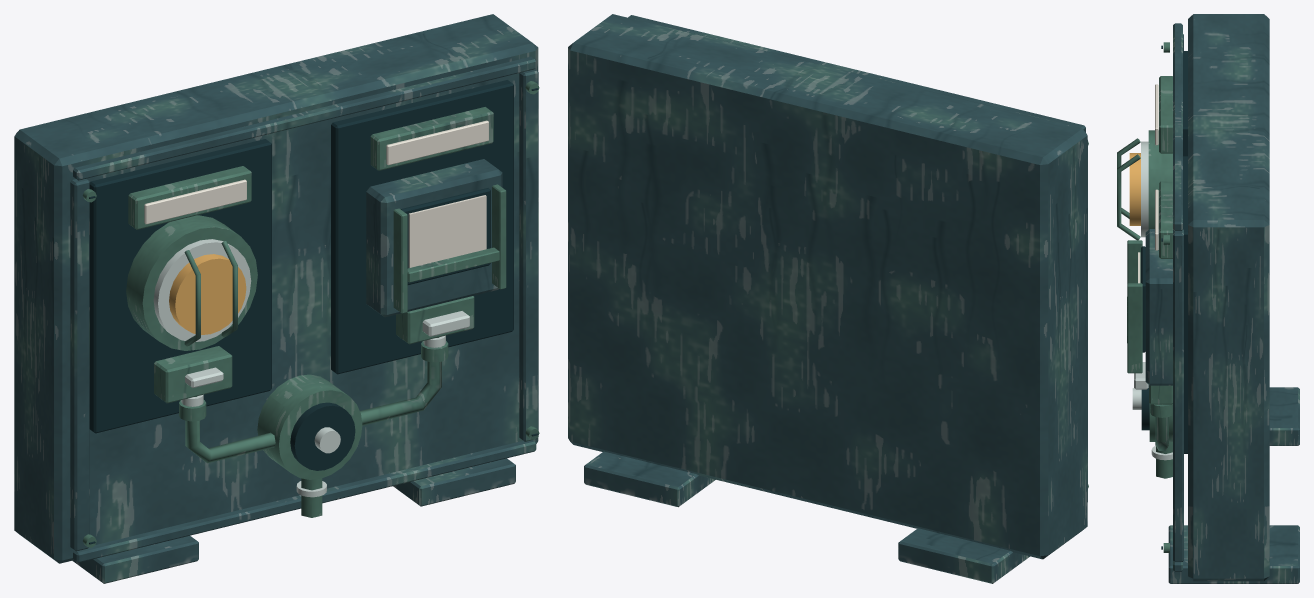
Rendered from SM_C1_Gate_System_Panel.glb.
3 views of the same model, side by side, from view 1: azimuth 30°, elevation 25°; view 2: azimuth 150°, elevation 25°; view 3: azimuth 270°, elevation 25° (orthographic). The views are drawn at different scales.
Visible parts, largest first — view 1: SM_C1_Gate_System_Panel_Casting, SM_C1_Gate_System_Panel_Recess, SM_C1_Gate_System_Panel_Patina, SM_C1_Gate_System_Panel_Blank_Paper, SM_C1_Gate_System_Panel_Salt_Porcelain, SM_C1_Gate_System_Panel_Lamp_Lens; view 2: SM_C1_Gate_System_Panel_Casting; view 3: SM_C1_Gate_System_Panel_Casting, SM_C1_Gate_System_Panel_Patina, SM_C1_Gate_System_Panel_Recess, SM_C1_Gate_System_Panel_Salt_Porcelain, SM_C1_Gate_System_Panel_Lamp_Lens, SM_C1_Gate_System_Panel_Blank_Paper.
Boxes of the visible parts, bbox=[...] form: SM_C1_Gate_System_Panel_Casting: bbox=[14, 14, 538, 583]; SM_C1_Gate_System_Panel_Recess: bbox=[89, 80, 538, 544]; SM_C1_Gate_System_Panel_Patina: bbox=[82, 81, 539, 547]; SM_C1_Gate_System_Panel_Blank_Paper: bbox=[144, 120, 488, 267]; SM_C1_Gate_System_Panel_Salt_Porcelain: bbox=[153, 239, 469, 497]; SM_C1_Gate_System_Panel_Lamp_Lens: bbox=[169, 254, 246, 334]; SM_C1_Gate_System_Panel_Casting: bbox=[568, 14, 1087, 583]; SM_C1_Gate_System_Panel_Casting: bbox=[1145, 14, 1299, 583]; SM_C1_Gate_System_Panel_Patina: bbox=[1117, 42, 1172, 552]; SM_C1_Gate_System_Panel_Recess: bbox=[1141, 45, 1187, 549]; SM_C1_Gate_System_Panel_Salt_Porcelain: bbox=[1132, 141, 1172, 460]; SM_C1_Gate_System_Panel_Lamp_Lens: bbox=[1129, 153, 1140, 225]; SM_C1_Gate_System_Panel_Blank_Paper: bbox=[1138, 84, 1158, 283].
Bounding box in the file's own units: 1.1 × 0.92 × 0.4036.
6 materials, 2 textured.
